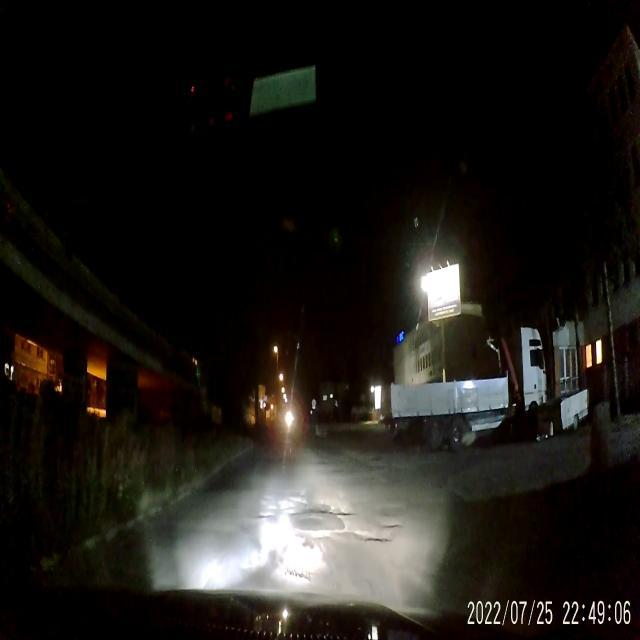Pothole: (290, 512, 355, 534), (316, 501, 356, 521), (352, 532, 394, 546), (380, 520, 410, 536), (254, 512, 280, 523)
